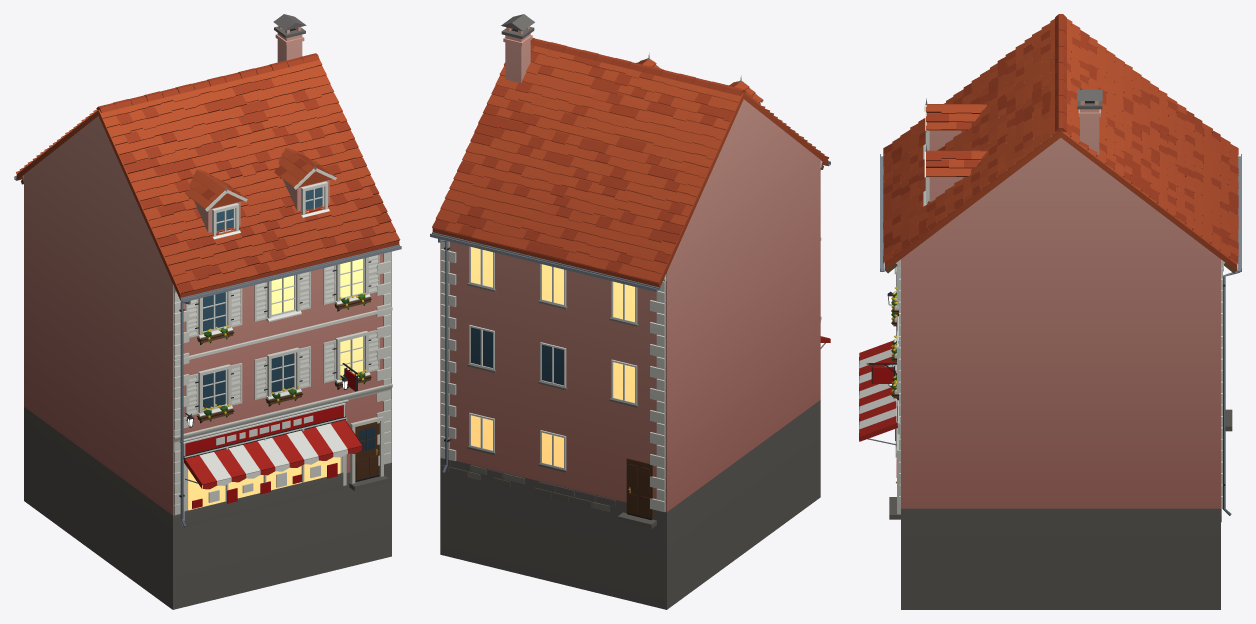
Rendered from TownHouse_K.fbx.
3 renders of one model, left to right at view 1: azimuth 30°, elevation 25°; view 2: azimuth 150°, elevation 25°; view 3: azimuth 270°, elevation 25°, orthographic. The views are drawn at different scales.
Parts seen in each view (by area): view 1: TownHouse_K_LOD0; view 2: TownHouse_K_LOD0; view 3: TownHouse_K_LOD0.
Part boxes in pixels (left/top/right/bottom): TownHouse_K_LOD0: left=14, top=14, right=401, bottom=609; TownHouse_K_LOD0: left=430, top=14, right=830, bottom=609; TownHouse_K_LOD0: left=859, top=14, right=1241, bottom=609.
Size of what is drawn, in the model's own units: 8.5 by 17.7 by 11.97.
1 material, 1 textured.
